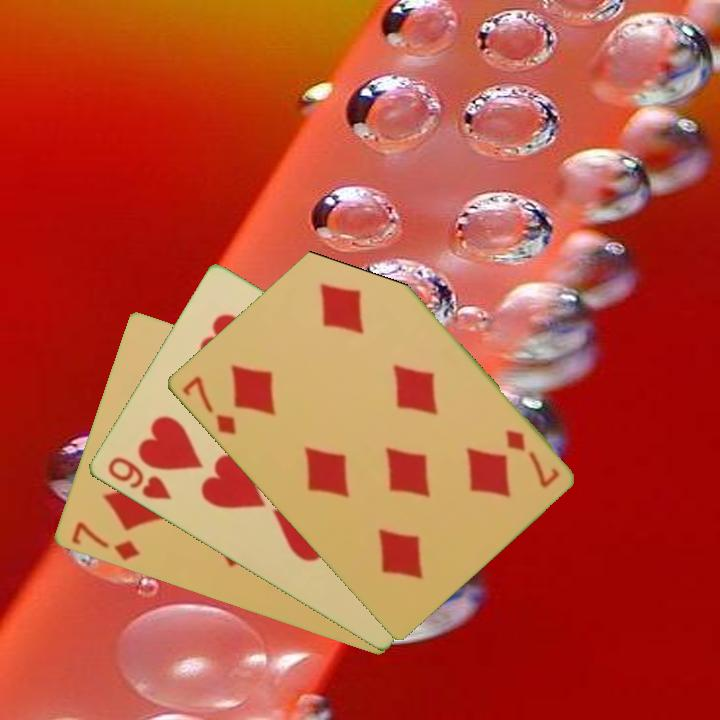7d: (178, 372, 239, 438), (501, 426, 562, 491), (67, 518, 142, 564)
9h: (103, 453, 173, 503)
